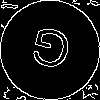G: (25, 25, 75, 80)
